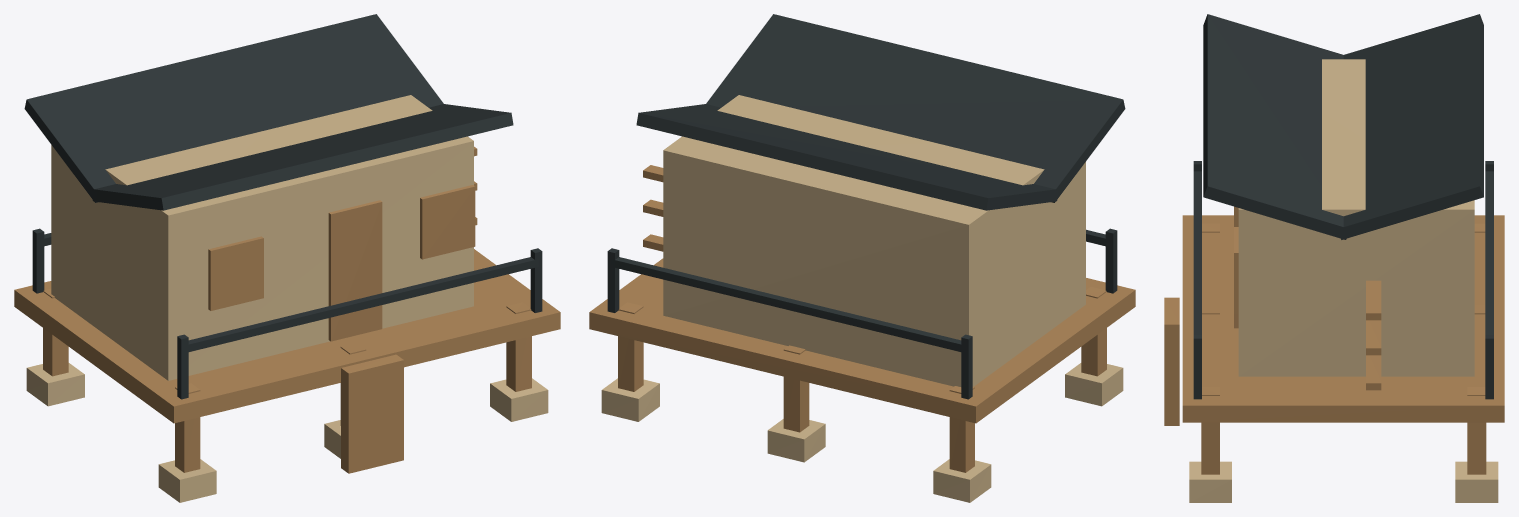
The model's file is Fishing-Hut.glb.
The picture shows the model from 3 angles, left to right: view 1: azimuth 30°, elevation 25°; view 2: azimuth 150°, elevation 25°; view 3: azimuth 270°, elevation 25°; orthographic projection.
Parts seen in each view (by area): view 1: fishing-hut-static-fishing-hut-cream-wall-panels, fishing-hut-static-fishing-hut-charcoal-roof-rails, fishing-hut-static-fishing-hut-warm-timber-frame, fishing-hut-static-fishing-hut-muted-teal-shutters-door, fishing-hut-static-fishing-hut-pale-stone-footings; view 2: fishing-hut-static-fishing-hut-cream-wall-panels, fishing-hut-static-fishing-hut-charcoal-roof-rails, fishing-hut-static-fishing-hut-warm-timber-frame, fishing-hut-static-fishing-hut-pale-stone-footings; view 3: fishing-hut-static-fishing-hut-charcoal-roof-rails, fishing-hut-static-fishing-hut-cream-wall-panels, fishing-hut-static-fishing-hut-warm-timber-frame, fishing-hut-static-fishing-hut-pale-stone-footings, fishing-hut-static-fishing-hut-muted-teal-shutters-door.
Boxes of the visible parts, box(x1,y1,x2,y2) form: fishing-hut-static-fishing-hut-cream-wall-panels: box(51, 95, 473, 380); fishing-hut-static-fishing-hut-charcoal-roof-rails: box(24, 14, 542, 399); fishing-hut-static-fishing-hut-warm-timber-frame: box(14, 146, 560, 473); fishing-hut-static-fishing-hut-muted-teal-shutters-door: box(208, 185, 475, 341); fishing-hut-static-fishing-hut-pale-stone-footings: box(26, 363, 548, 502); fishing-hut-static-fishing-hut-cream-wall-panels: box(663, 95, 1085, 386); fishing-hut-static-fishing-hut-charcoal-roof-rails: box(607, 14, 1125, 399); fishing-hut-static-fishing-hut-warm-timber-frame: box(589, 165, 1135, 472); fishing-hut-static-fishing-hut-pale-stone-footings: box(601, 363, 1123, 502); fishing-hut-static-fishing-hut-charcoal-roof-rails: box(1193, 14, 1493, 399); fishing-hut-static-fishing-hut-cream-wall-panels: box(1238, 59, 1474, 376); fishing-hut-static-fishing-hut-warm-timber-frame: box(1164, 215, 1504, 474); fishing-hut-static-fishing-hut-pale-stone-footings: box(1189, 461, 1498, 502); fishing-hut-static-fishing-hut-muted-teal-shutters-door: box(1234, 206, 1238, 328).
Bounding box in the file's own units: 5.35 × 3.9 × 3.96.
